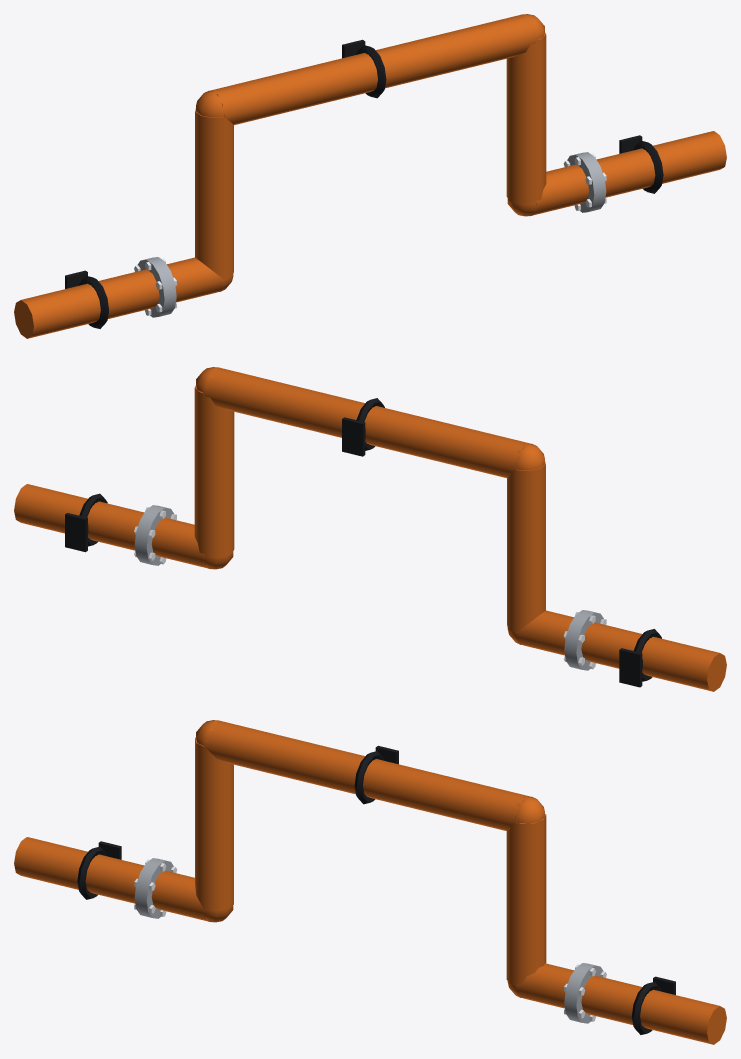
File: pipe_expansion_loop.glb
The picture shows the model from 3 angles, top to bottom: view 1: azimuth 30°, elevation 25°; view 2: azimuth 150°, elevation 25°; view 3: azimuth 330°, elevation 25°; orthographic projection.
Visible parts, largest first — view 1: pipe_expansion_loop; view 2: pipe_expansion_loop; view 3: pipe_expansion_loop.
Boxes of the visible parts, x1,y1,x2,y2 form: pipe_expansion_loop: (14, 14, 726, 338); pipe_expansion_loop: (14, 367, 726, 691); pipe_expansion_loop: (14, 720, 726, 1044).
Bounding box in the file's own units: 2 × 0.5921 × 0.165.
